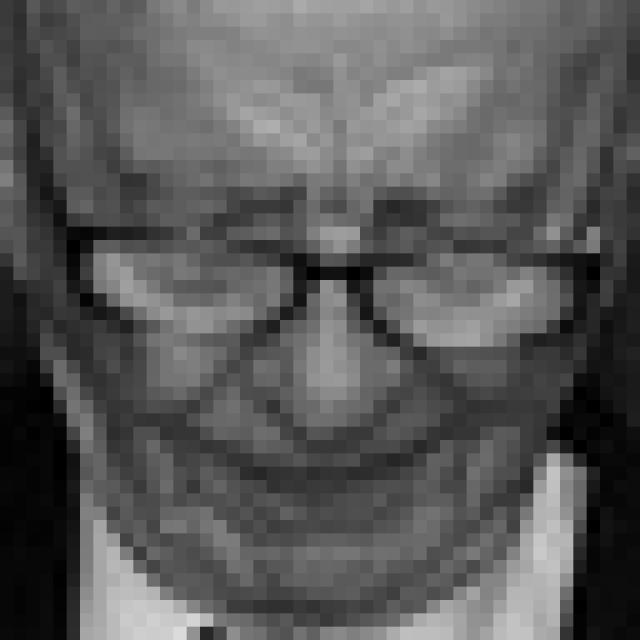sad: (92, 155, 542, 548)
